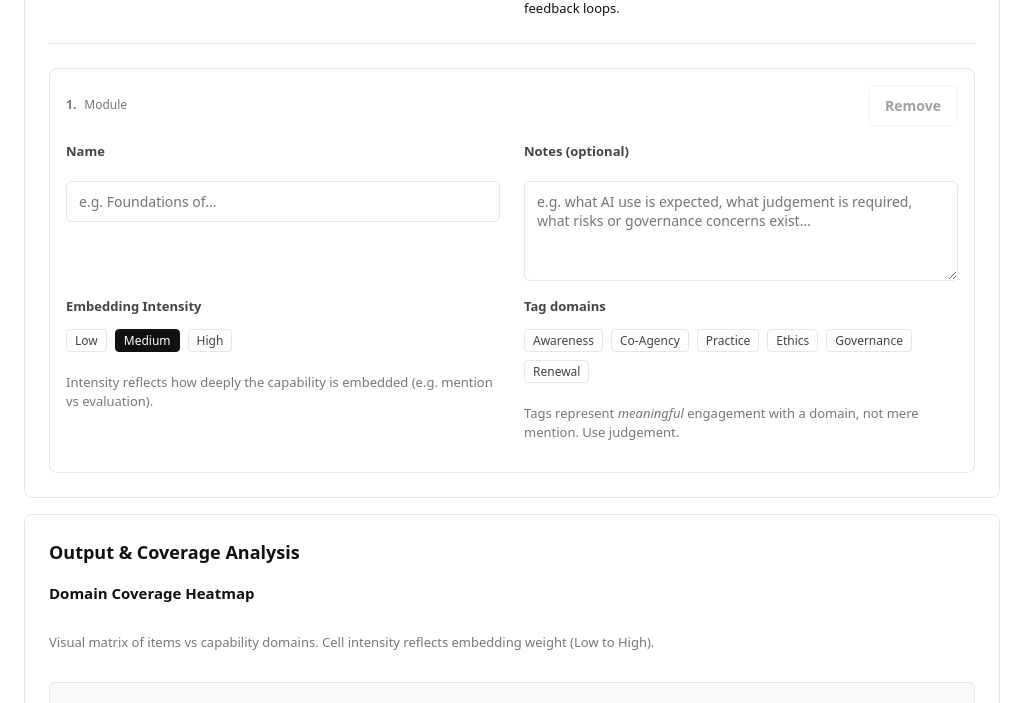
Test case: AI Capability Programme Mapping — Regression Tests › 4. Capability domain mapping, gap calculations, and balance logic › calculates weighted intensity correctly (weight * tag count)
(page scrolled)
Note: Set item 1 to High (weight 3) and tag Awareness & Ethics
Click the button "High": (210, 340) [188,328,232,352]
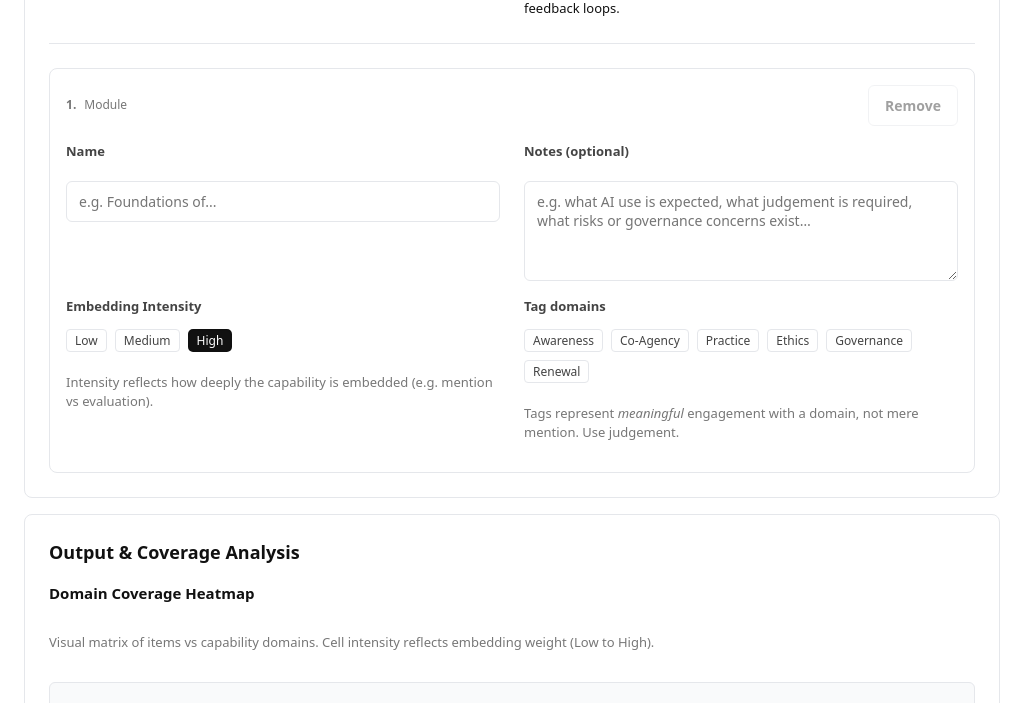
Click the button "Awareness": (564, 340) [524,328,603,352]
(page scrolled)
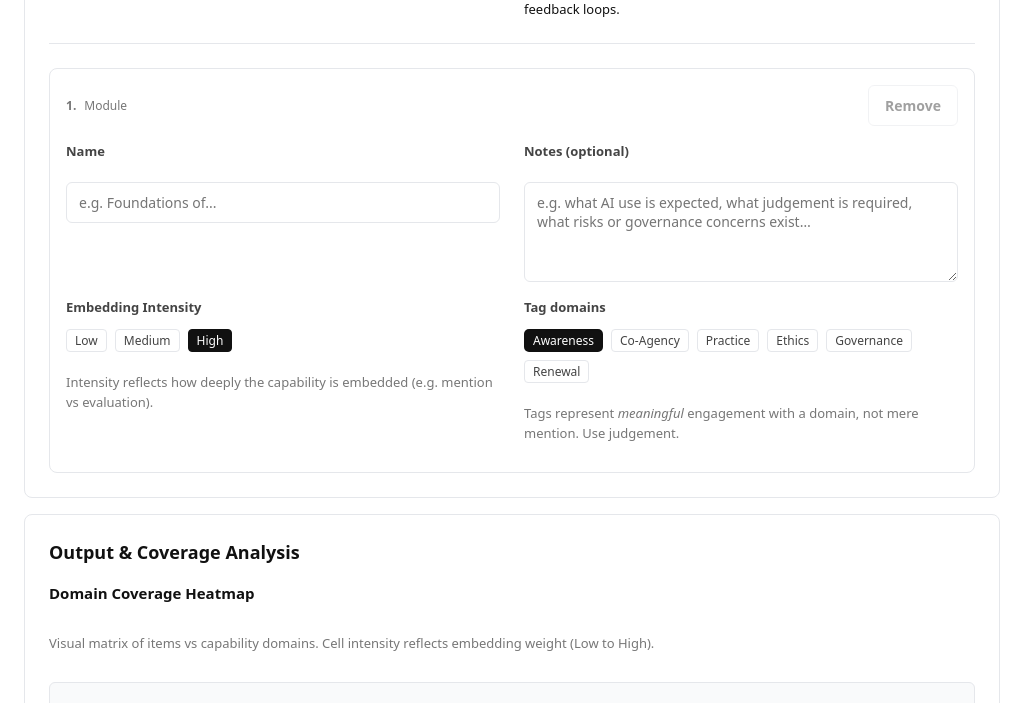
Click the button "Ethics": (793, 340) [767,329,818,352]
(page scrolled)
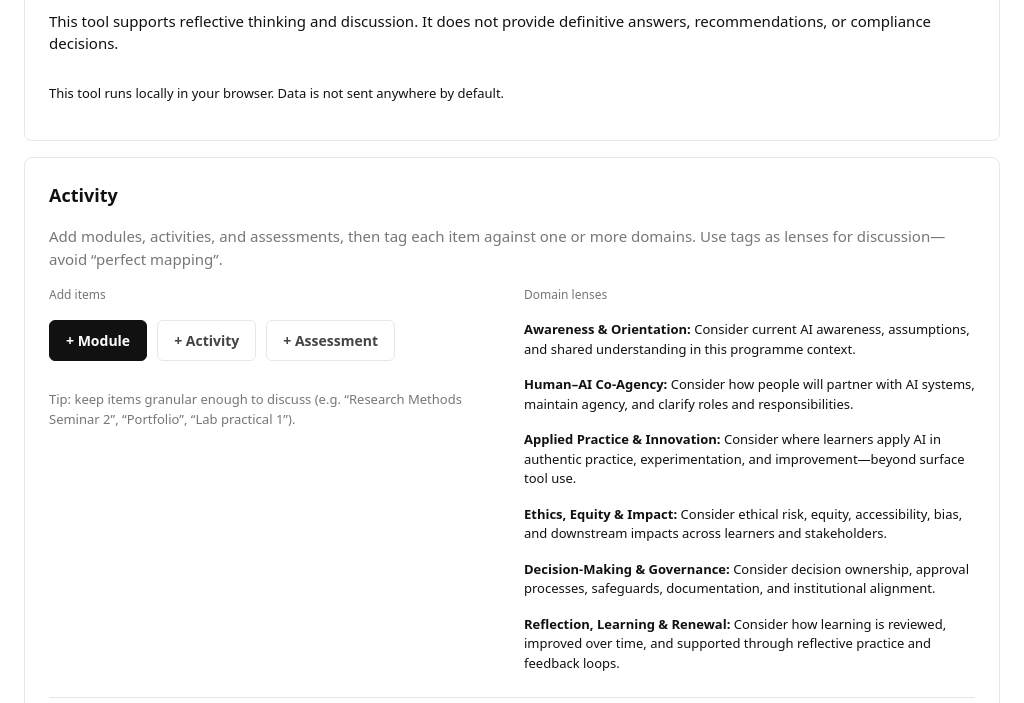
Note: Add item 2, leave default Medium (weight 2), tag Awareness
Click the button "+ Activity": (207, 340) [157,320,256,361]
(page scrolled)
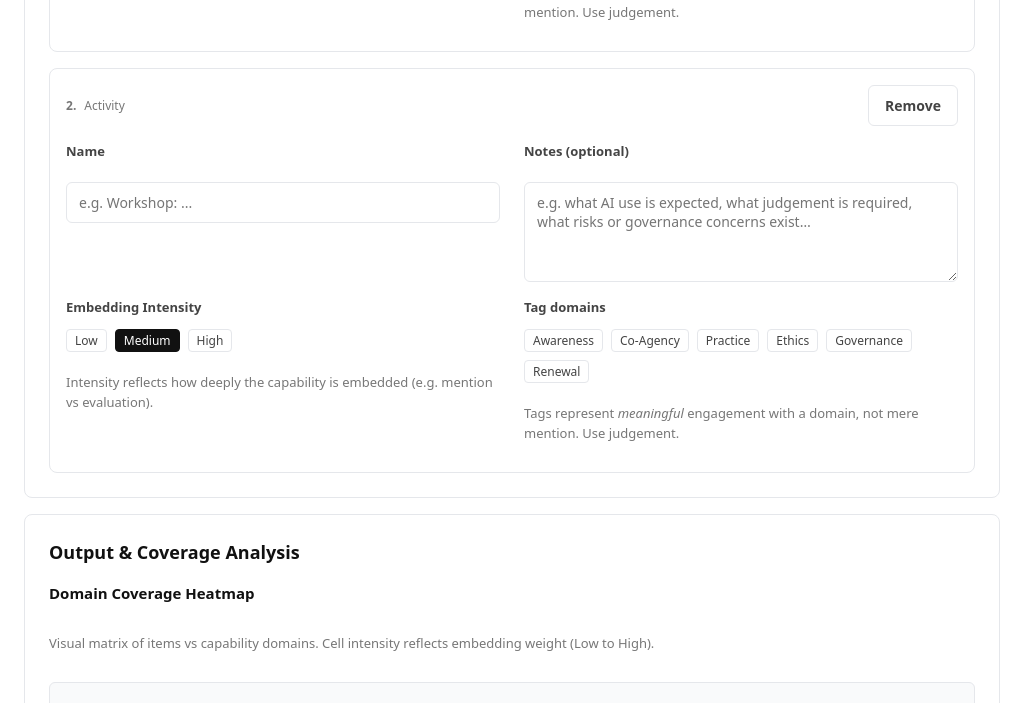
Click the button "Awareness": (564, 340) [524,329,603,352]
(page scrolled)
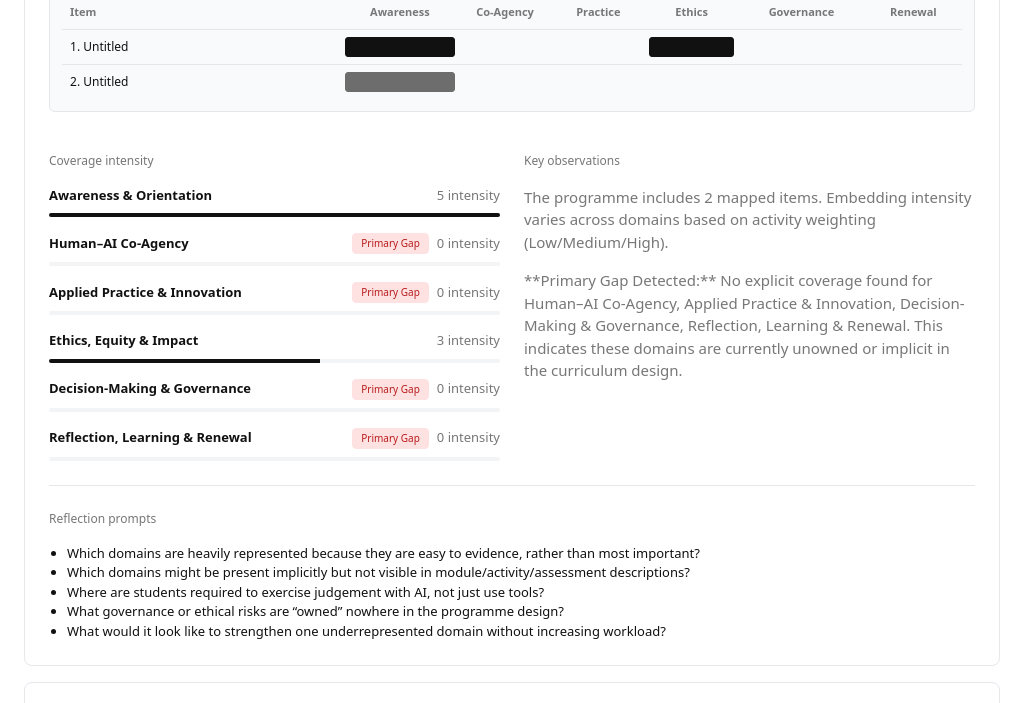
Now the text "3 intensity" is shown, box [437,331,500,350]
Now the text "5 intensity" is shown, box [437,186,500,205]
